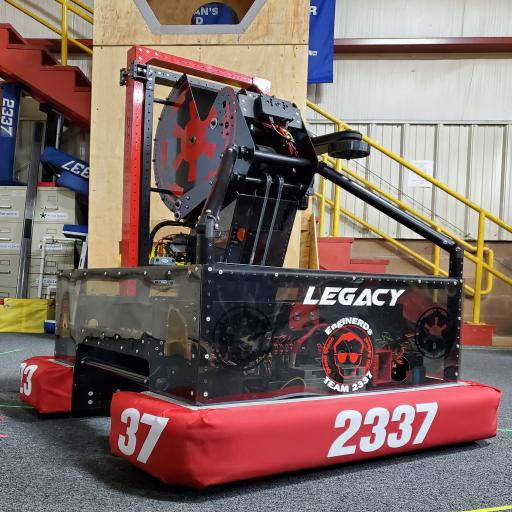robot: (16, 33, 503, 493)
